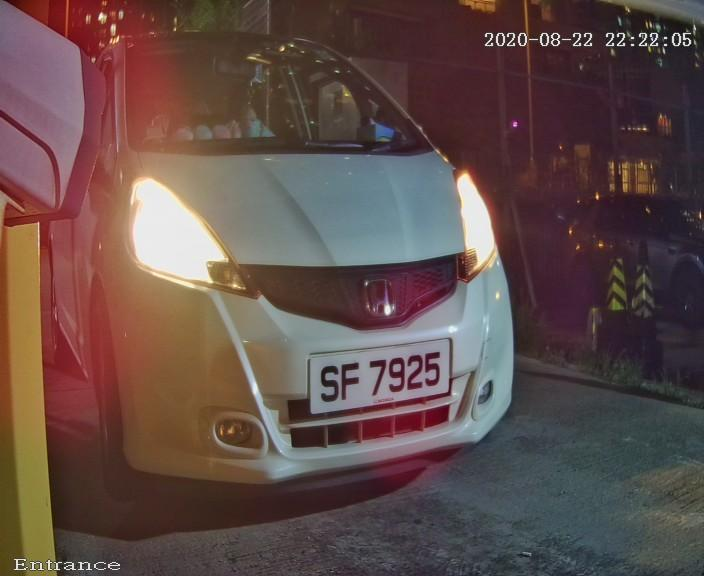Car: (41, 1, 579, 535)
License Plate: (299, 332, 466, 422)
